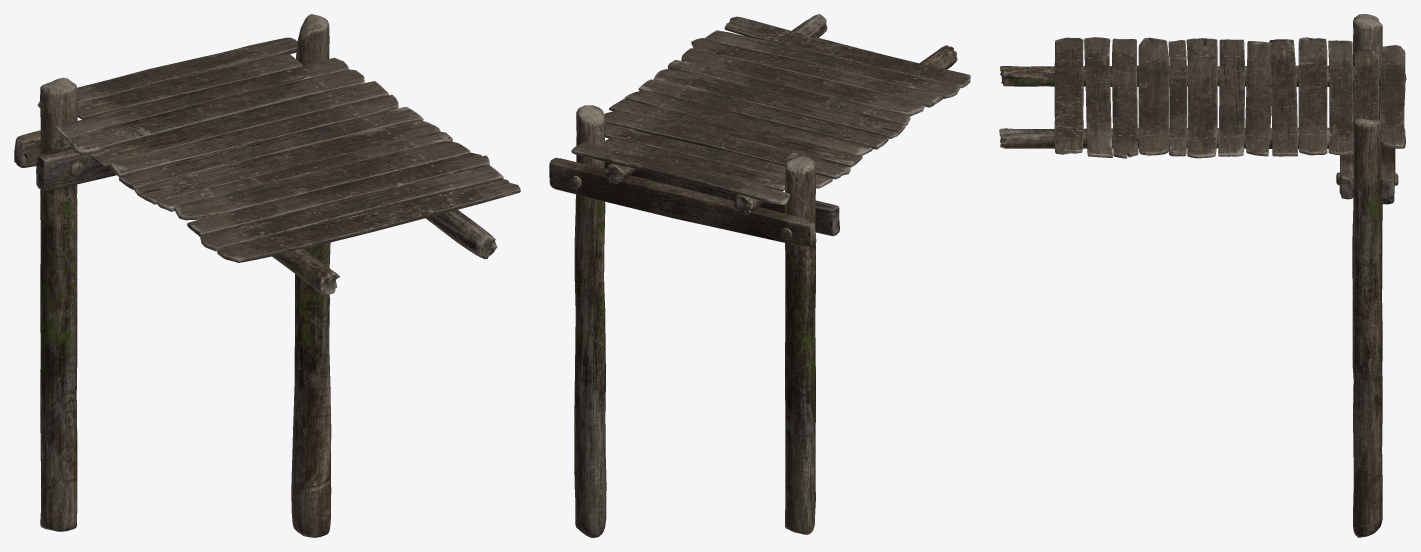
The model's file is pier_a.obj.
3 renders of one model, left to right at view 1: azimuth 30°, elevation 25°; view 2: azimuth 150°, elevation 25°; view 3: azimuth 270°, elevation 25°, orthographic. The views are drawn at different scales.
Parts seen in each view (by area): view 1: pier_a; view 2: pier_a; view 3: pier_a.
Boxes of the visible parts, left/top/right/bottom form: pier_a: left=14, top=14, right=520, bottom=537; pier_a: left=549, top=14, right=970, bottom=537; pier_a: left=999, top=14, right=1406, bottom=537.
Bounding box in the file's own units: 2.51 × 3.84 × 3.39.
Materials: 2 (2 with a texture image).
